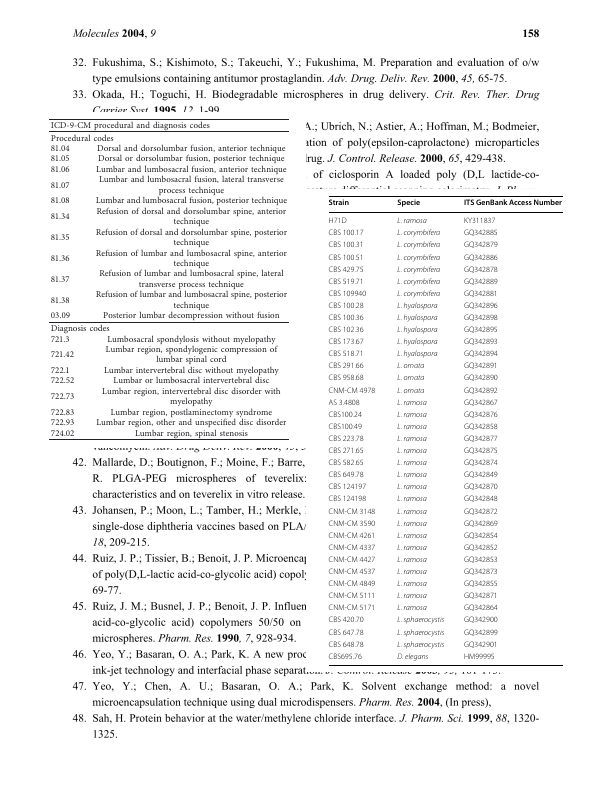borderless: (327, 194, 563, 665), (48, 117, 289, 439)
cell: (94, 290, 288, 312), (98, 175, 284, 197), (94, 228, 288, 249), (94, 249, 288, 270), (95, 207, 287, 228), (98, 270, 284, 291), (101, 387, 281, 408), (104, 345, 278, 366), (94, 196, 288, 207), (95, 165, 287, 176), (95, 418, 287, 429), (96, 144, 286, 155), (102, 311, 280, 322), (103, 366, 279, 377), (97, 155, 285, 165), (49, 121, 210, 132), (112, 376, 270, 387), (106, 335, 276, 345), (109, 408, 273, 418), (134, 429, 248, 439), (463, 198, 563, 208), (49, 324, 110, 335), (49, 134, 114, 144), (396, 615, 445, 625), (396, 228, 441, 238), (396, 240, 441, 250), (396, 628, 445, 637), (396, 640, 445, 649), (328, 567, 376, 576), (328, 579, 376, 588), (328, 591, 376, 600), (396, 313, 438, 323), (396, 325, 438, 335), (396, 337, 438, 347), (396, 349, 438, 359), (396, 253, 441, 262), (396, 265, 441, 274), (396, 277, 441, 286), (396, 289, 441, 298), (328, 386, 376, 394), (328, 507, 376, 515), (328, 519, 376, 527), (328, 531, 376, 539), (328, 543, 376, 551), (328, 555, 376, 563), (328, 604, 376, 612), (396, 301, 438, 310), (328, 313, 364, 322), (463, 313, 499, 322), (328, 325, 364, 334), (463, 325, 499, 334), (328, 337, 364, 346), (463, 337, 499, 346), (328, 446, 364, 455), (463, 446, 499, 455), (328, 458, 364, 467), (463, 458, 499, 467), (328, 470, 364, 479), (463, 470, 499, 479), (463, 567, 499, 576), (463, 579, 499, 588), (463, 591, 499, 600), (396, 216, 428, 226), (396, 434, 428, 444), (396, 446, 428, 456), (396, 458, 428, 468), (396, 470, 428, 480), (396, 482, 428, 492), (396, 494, 428, 504), (396, 555, 428, 565), (396, 567, 428, 577), (396, 579, 428, 589), (396, 591, 428, 601), (396, 603, 428, 613), (328, 289, 367, 297), (328, 483, 367, 491), (328, 495, 367, 503), (463, 216, 496, 225), (396, 652, 429, 661), (327, 229, 364, 237), (327, 241, 364, 249), (327, 253, 364, 261), (396, 361, 425, 371), (463, 229, 499, 237), (463, 241, 499, 249), (463, 253, 499, 261), (328, 265, 364, 273), (463, 265, 499, 273), (328, 277, 364, 285), (463, 277, 499, 285), (463, 289, 499, 297), (328, 301, 364, 309), (463, 301, 499, 309), (328, 350, 364, 358), (463, 350, 499, 358), (328, 362, 364, 370), (463, 362, 499, 370), (328, 374, 364, 382), (463, 374, 499, 382), (463, 386, 499, 394), (396, 398, 428, 407), (463, 398, 499, 406), (396, 410, 428, 419), (463, 410, 499, 418), (396, 422, 428, 431), (463, 422, 499, 430), (328, 434, 364, 442), (463, 434, 499, 442), (463, 483, 499, 491), (463, 495, 499, 503), (396, 507, 428, 516), (463, 507, 499, 515), (396, 519, 428, 528), (463, 519, 499, 527), (396, 531, 428, 540), (463, 531, 499, 539), (396, 543, 428, 552), (463, 543, 499, 551), (463, 555, 499, 563), (463, 604, 499, 612), (328, 616, 364, 624), (463, 616, 499, 624), (328, 628, 364, 636), (463, 628, 499, 636), (328, 640, 364, 648), (463, 640, 499, 648), (49, 350, 75, 361), (49, 376, 75, 387), (49, 392, 75, 403), (49, 418, 75, 429), (328, 410, 363, 418), (328, 422, 363, 430), (328, 652, 363, 660), (328, 398, 361, 406), (463, 652, 496, 660), (396, 374, 425, 383), (396, 386, 425, 395), (49, 408, 75, 418), (49, 429, 75, 439), (396, 198, 421, 208), (49, 311, 71, 322), (49, 144, 70, 155), (49, 165, 70, 176), (49, 196, 70, 207), (49, 212, 70, 223), (49, 233, 70, 244), (49, 254, 70, 265), (49, 366, 70, 377), (327, 198, 350, 208), (49, 155, 70, 165), (49, 181, 70, 191), (49, 275, 70, 285), (49, 296, 70, 306), (49, 335, 70, 345), (327, 216, 348, 225)
